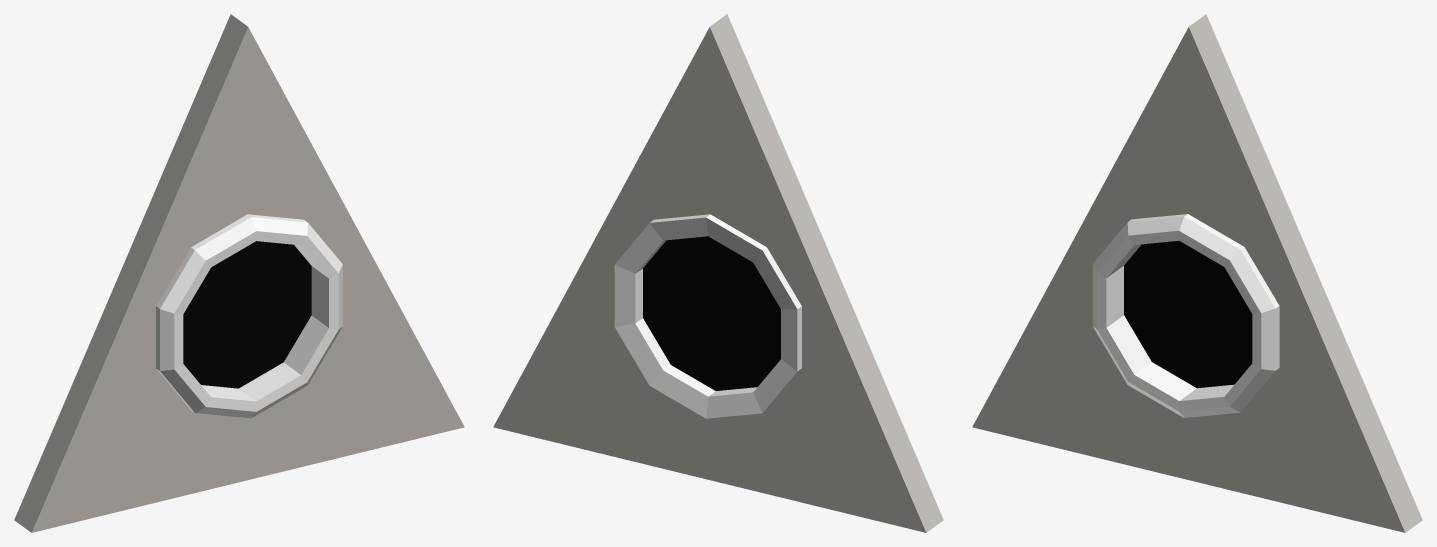
File: _ROOF_BIG_TRIANGLE_02_1.fbx
3 views of the same model, side by side, from view 1: azimuth 30°, elevation 25°; view 2: azimuth 150°, elevation 25°; view 3: azimuth 330°, elevation 25° (orthographic).
Parts seen in each view (by area): view 1: ROOF_BIG_TRIANGLE_02_1; view 2: ROOF_BIG_TRIANGLE_02_1; view 3: ROOF_BIG_TRIANGLE_02_1.
Part boxes in pixels (box(x1,y1,x2,y2)): ROOF_BIG_TRIANGLE_02_1: box(14, 14, 464, 532); ROOF_BIG_TRIANGLE_02_1: box(493, 14, 943, 532); ROOF_BIG_TRIANGLE_02_1: box(972, 14, 1422, 532).
Bounding box in the file's own units: 100 × 100 × 12.35.
